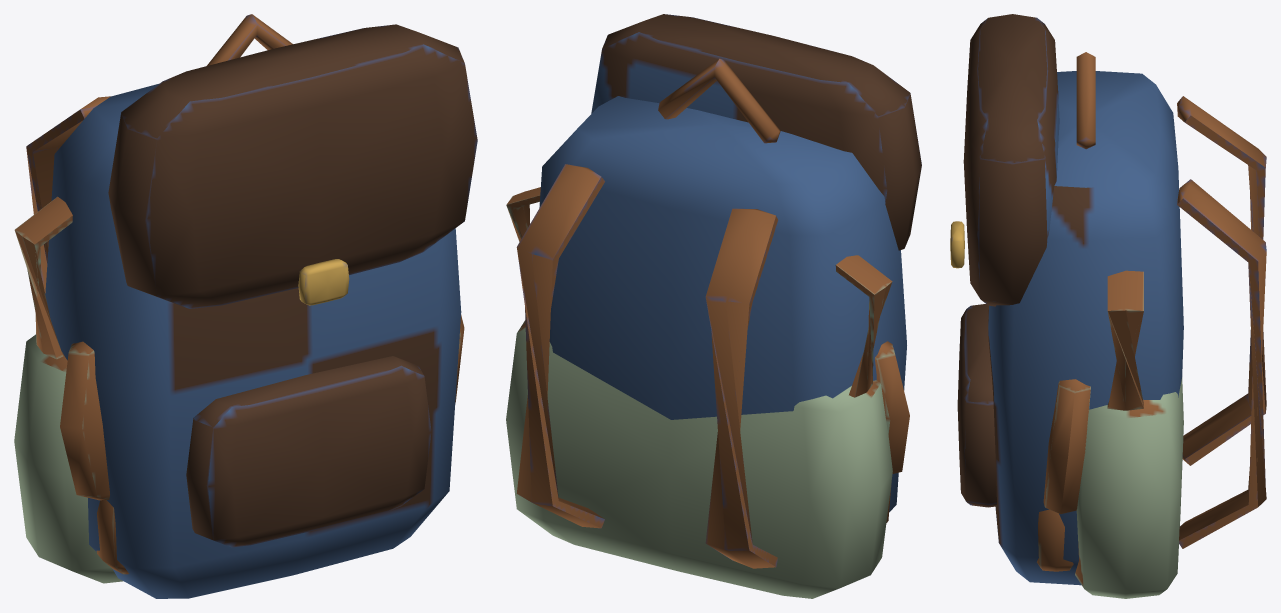
The model's file is sac.glb.
3 views of the same model, side by side, from view 1: azimuth 30°, elevation 25°; view 2: azimuth 150°, elevation 25°; view 3: azimuth 270°, elevation 25° (orthographic). The views are drawn at different scales.
Parts seen in each view (by area): view 1: sac-a-dos, sacoche; view 2: sac-a-dos, sacoche; view 3: sac-a-dos, sacoche.
Boxes of the visible parts, x1,y1,x2,y2 form: sac-a-dos: [26, 14, 477, 598]; sacoche: [14, 196, 464, 583]; sac-a-dos: [516, 14, 921, 568]; sacoche: [506, 187, 909, 598]; sac-a-dos: [950, 14, 1266, 585]; sacoche: [1037, 270, 1183, 598].
Bounding box in the file's own units: 0.4 × 0.5 × 0.2946.
Materials: 1 (1 with a texture image).
